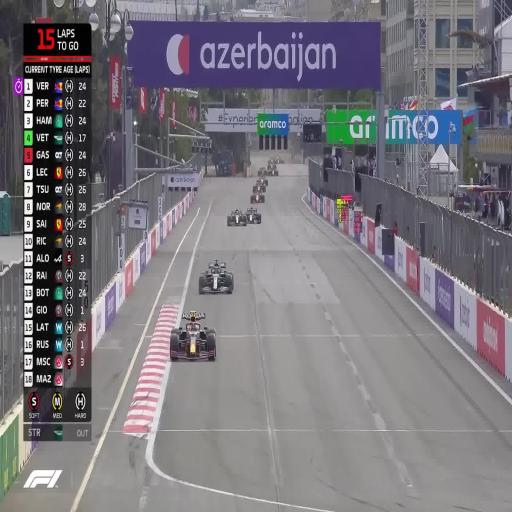f1_car: (170, 311, 216, 360), (198, 260, 234, 293), (227, 210, 246, 226), (246, 206, 261, 223), (258, 167, 268, 185), (250, 192, 265, 203), (253, 182, 266, 192), (267, 164, 278, 175), (256, 176, 268, 186), (258, 166, 267, 176), (266, 182, 267, 184), (267, 180, 267, 180)
